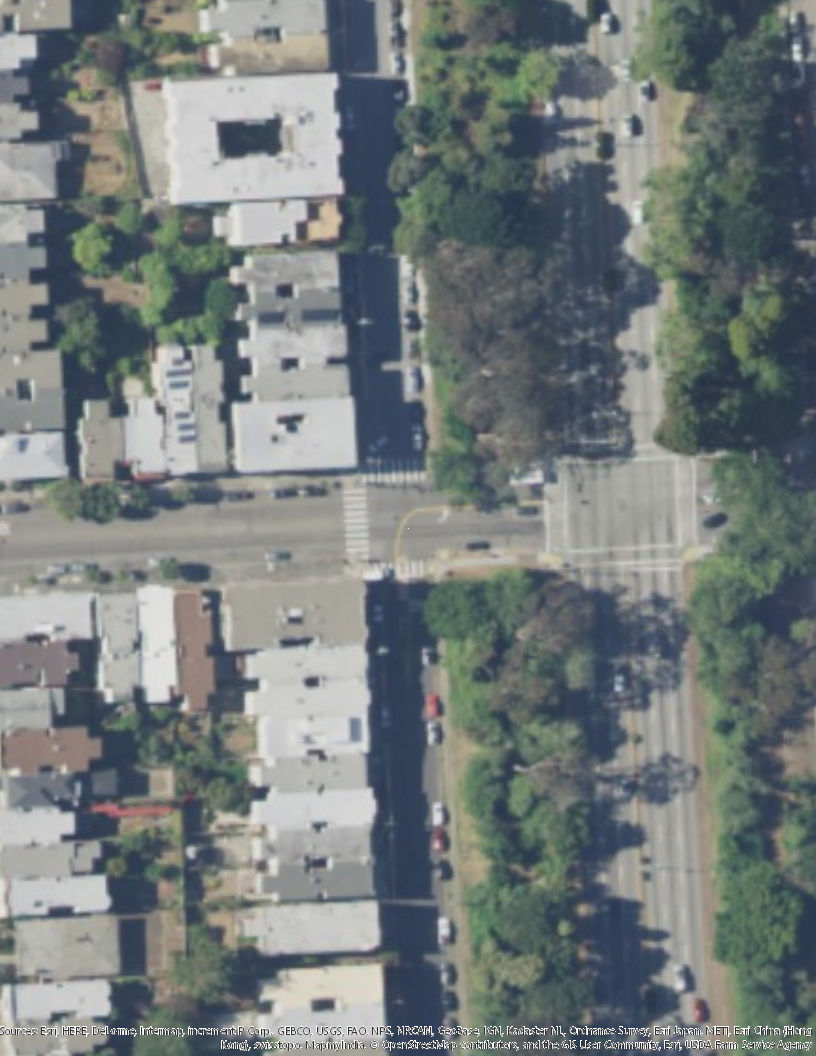zebracross: (338, 478, 370, 565), (365, 454, 424, 484), (365, 560, 445, 578)
